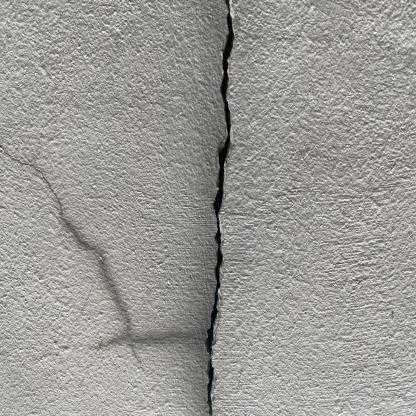crack: (205, 0, 235, 416)
